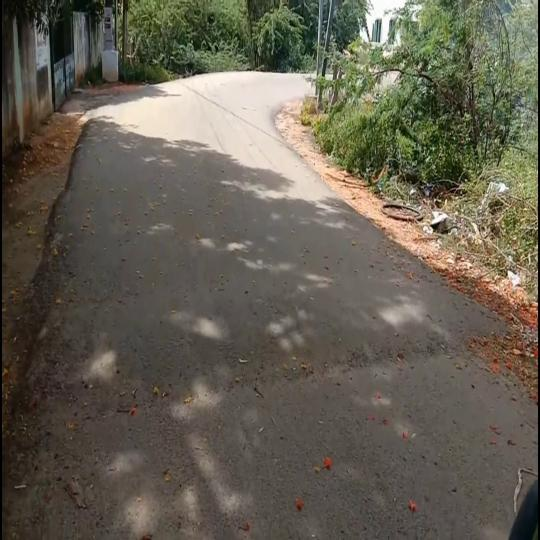Speed Bump: (25, 266, 511, 408)
